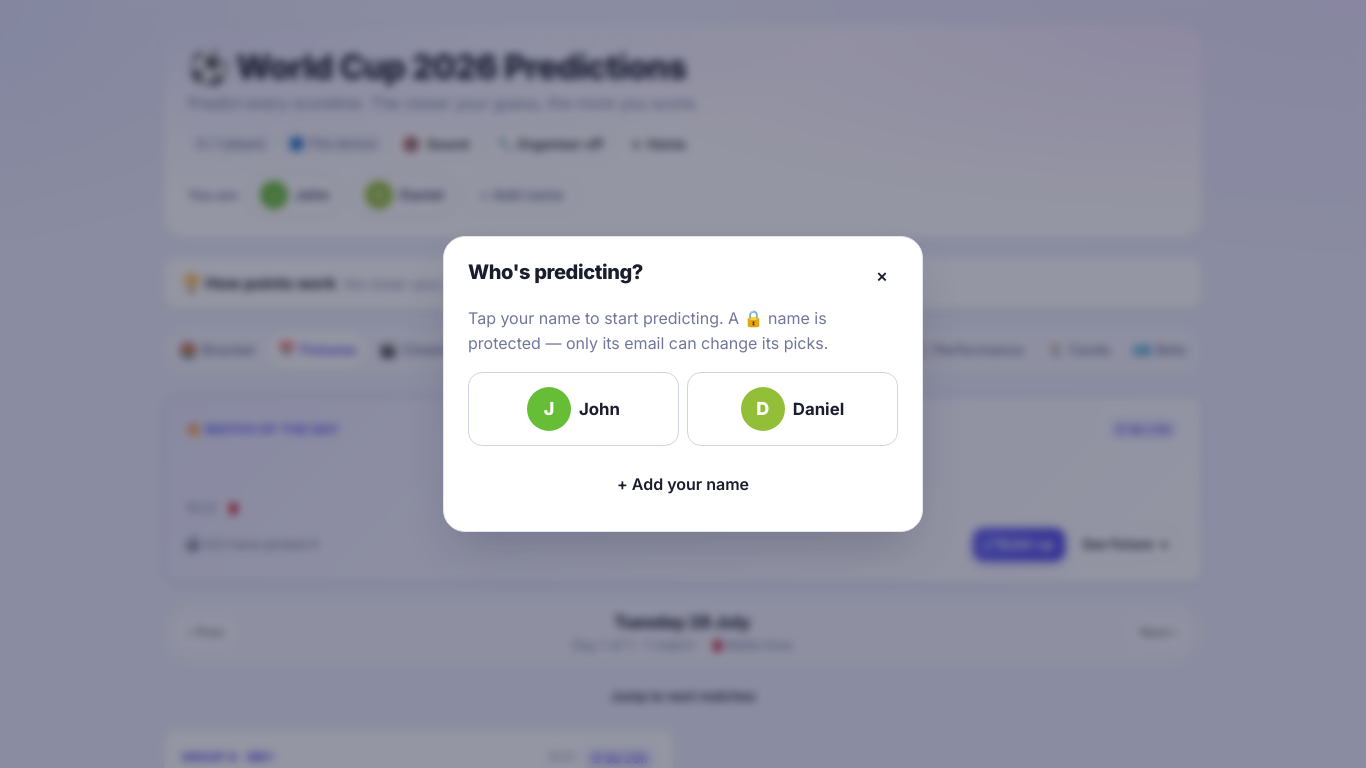
Test: WorldCupPage › crowns the closest pick once the result is in
Check: the heading "⚽ World Cup 2026 Predictions" is shown, box [188, 47, 699, 87]
Click the button "J John". click: (574, 409)
box: [468, 372, 679, 446]
(page scrolled)
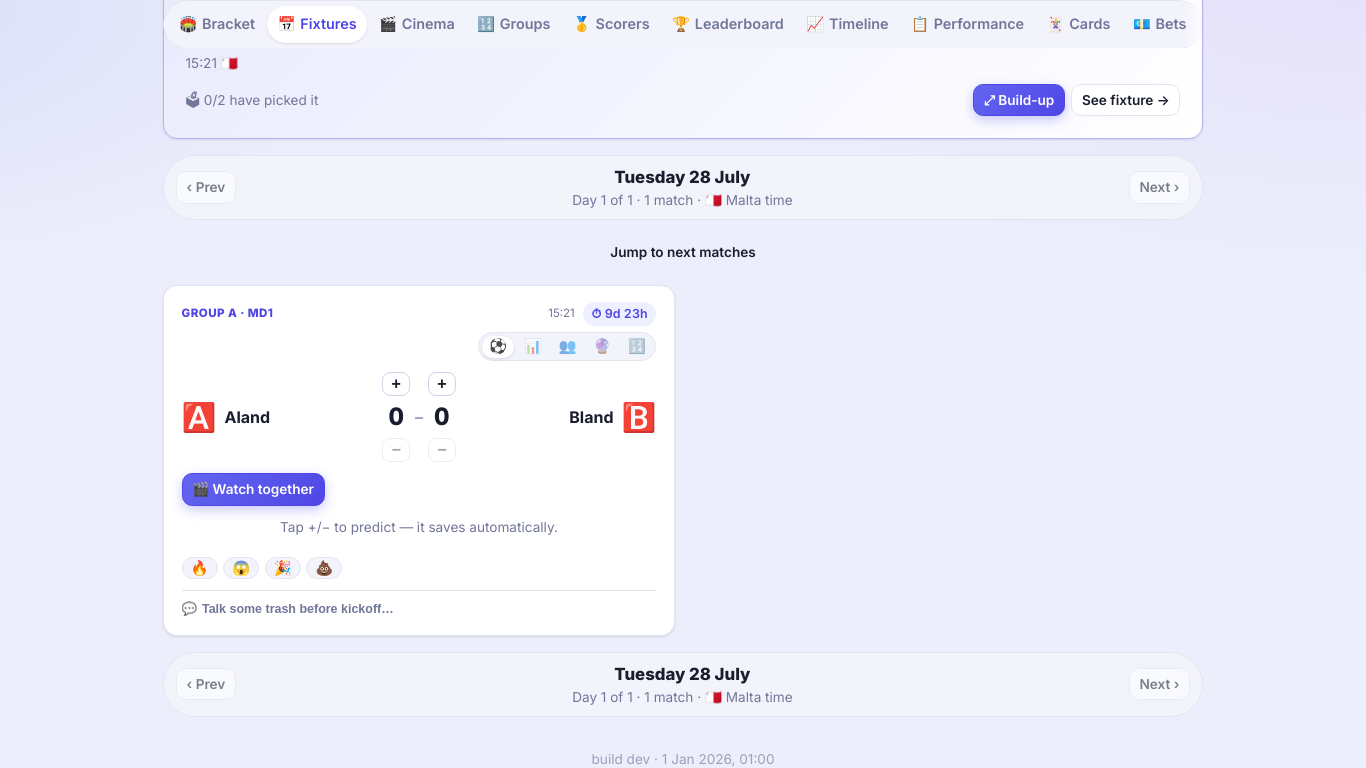
Click the button named "Aland goals: one more". click: (396, 384)
box: [382, 372, 410, 396]
(page scrolled)
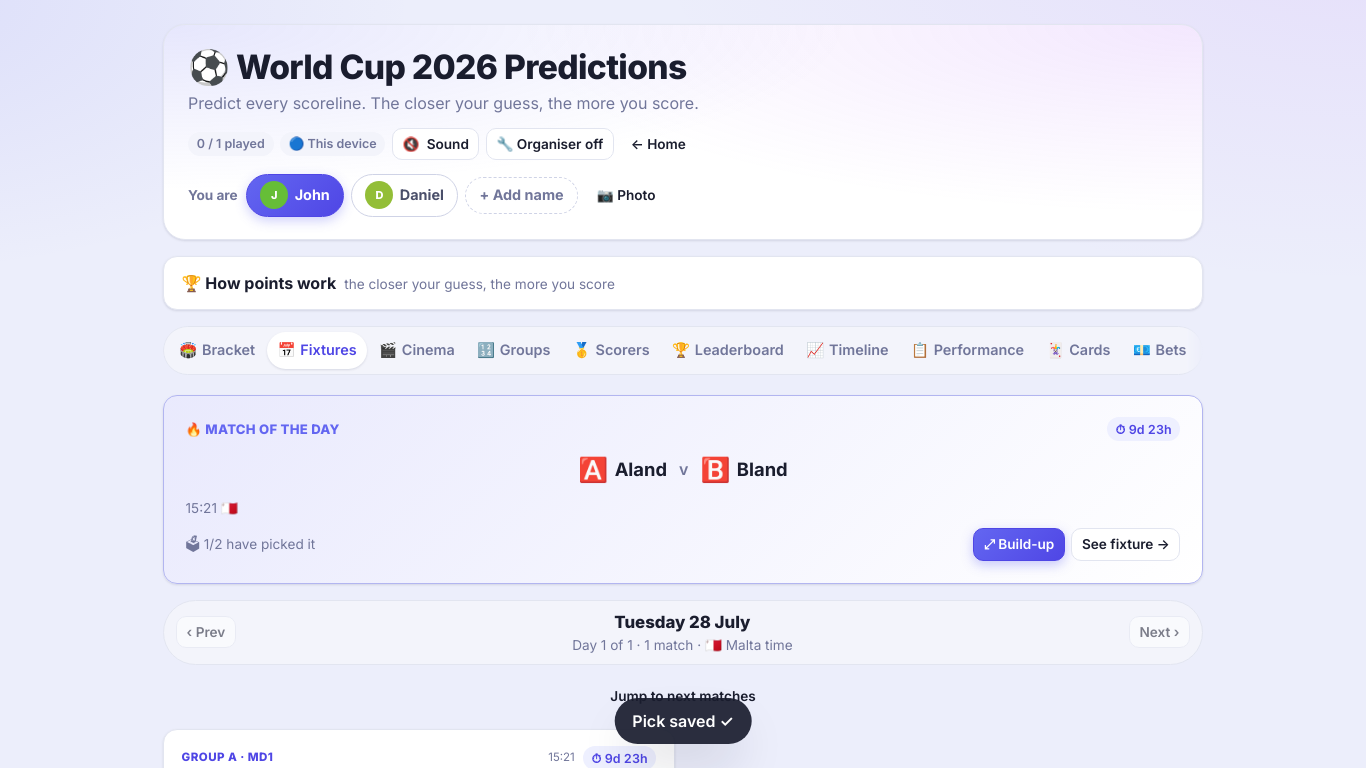
Click the button "🔧 Organiser off". click: (550, 144)
box: [486, 128, 614, 160]
(page scrolled)
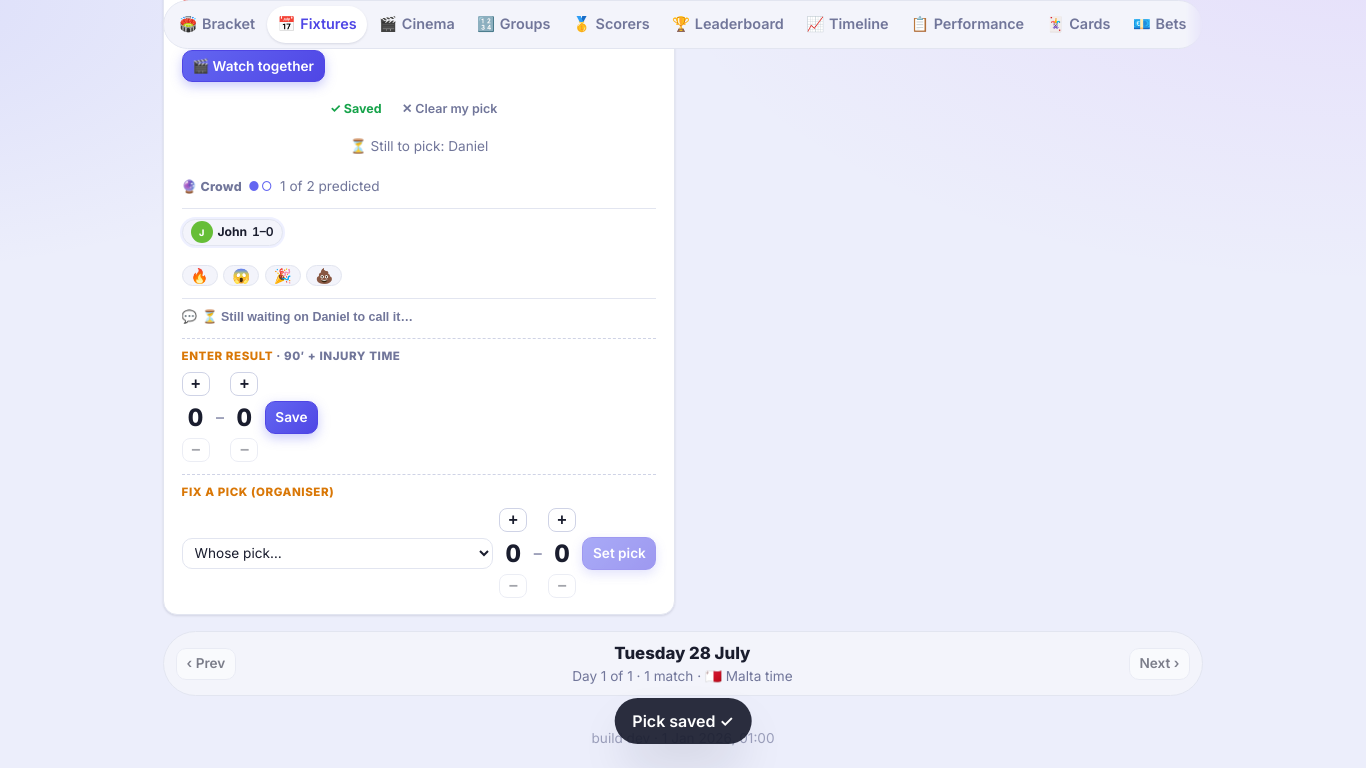
Click the button named "Home result goals: one more". click: (196, 384)
box: [182, 372, 210, 396]
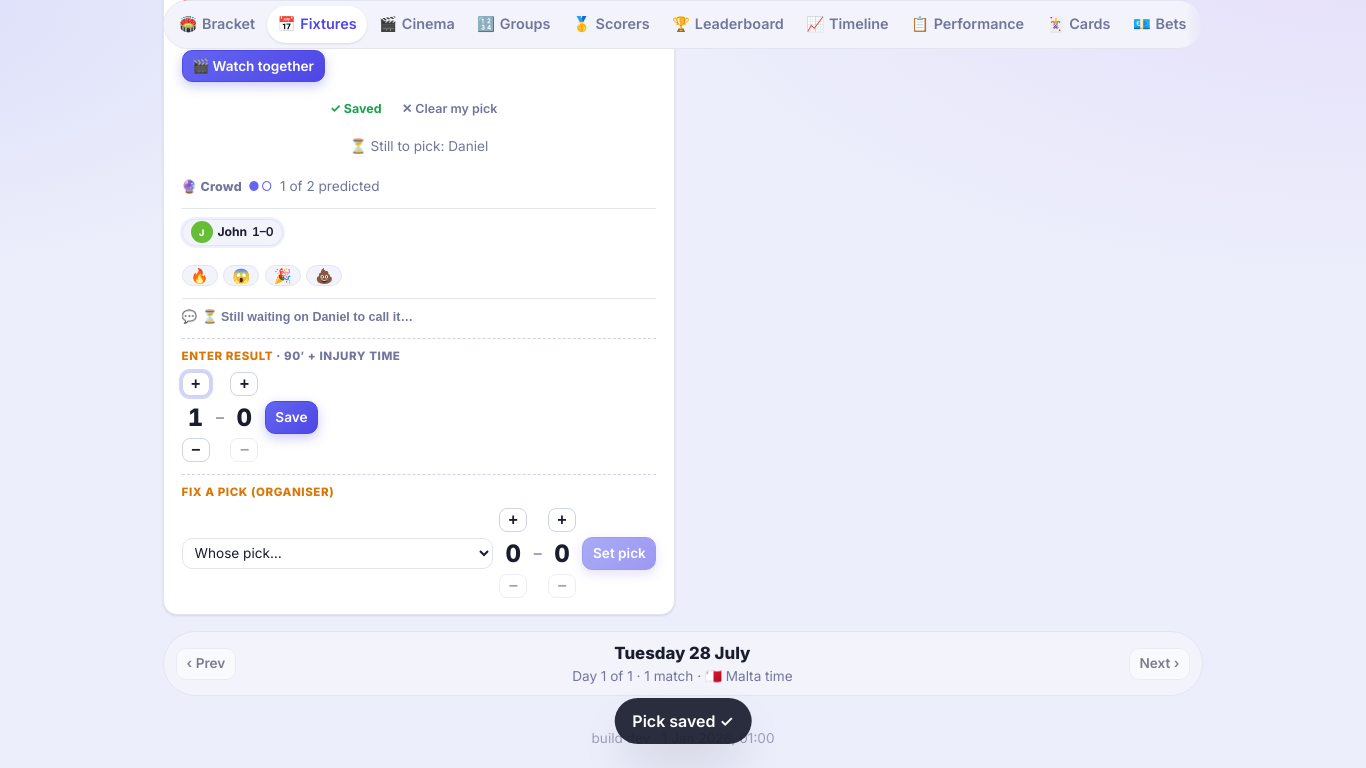
Click the button "Save". click: (292, 417)
box: [265, 401, 318, 434]
(page scrolled)
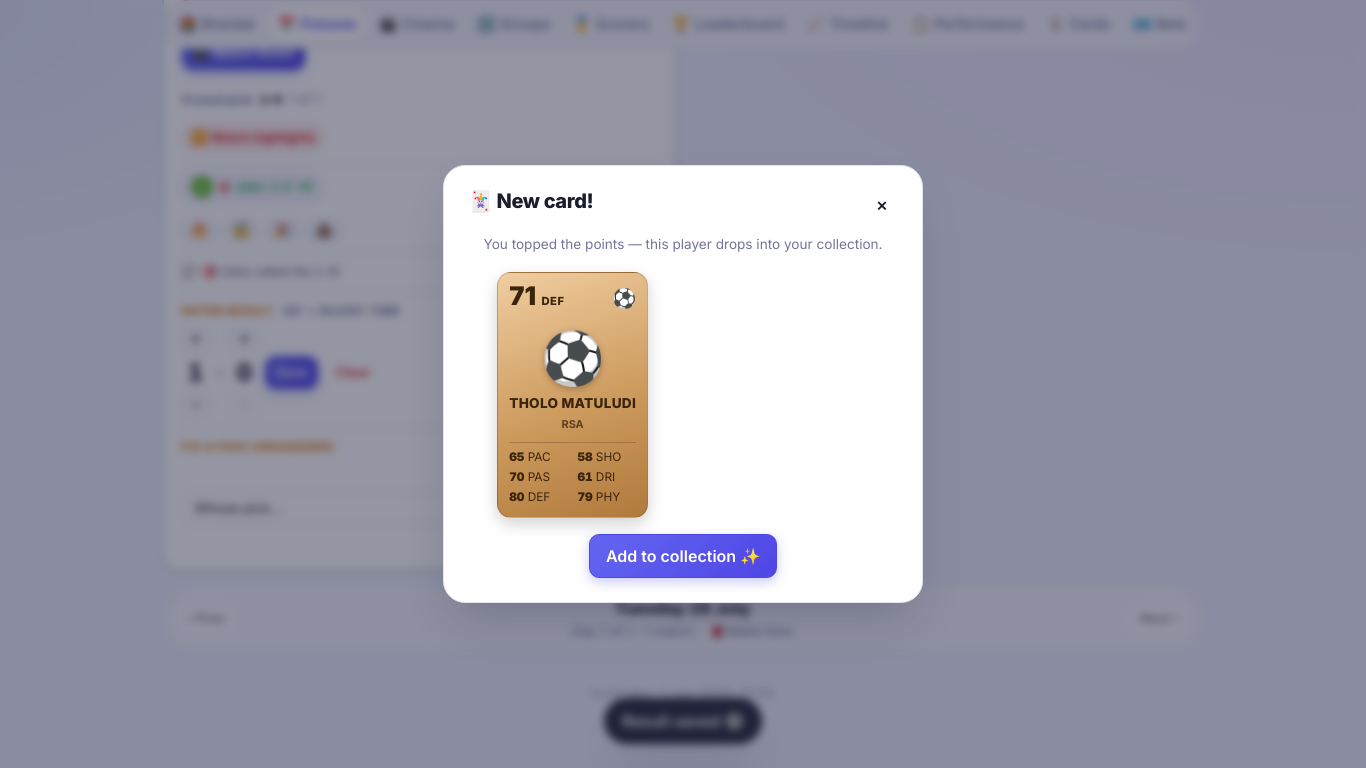
Check: the text titled "Closest pick" is shown, box [217, 179, 230, 195]
